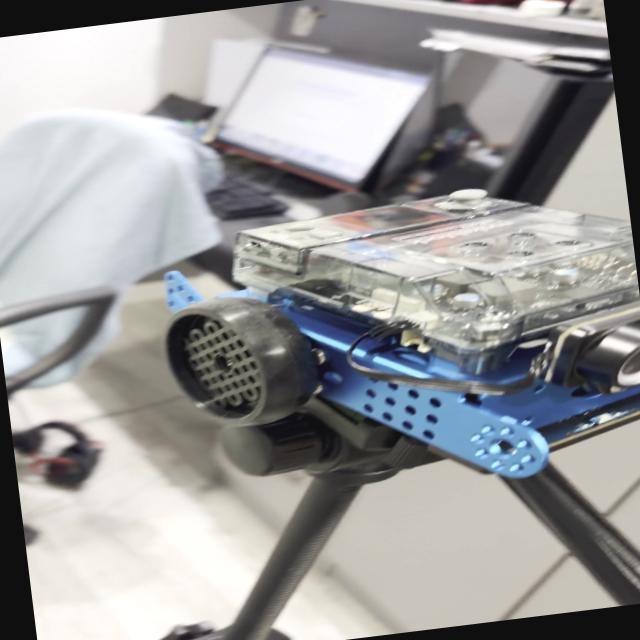mbot-detection: (141, 160, 640, 528)
